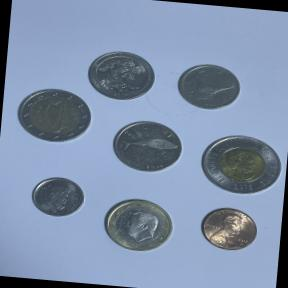coin: (195, 127, 288, 200), (98, 191, 187, 260), (14, 82, 96, 147), (109, 114, 190, 178), (83, 46, 159, 105), (192, 200, 266, 257), (24, 170, 90, 224)
